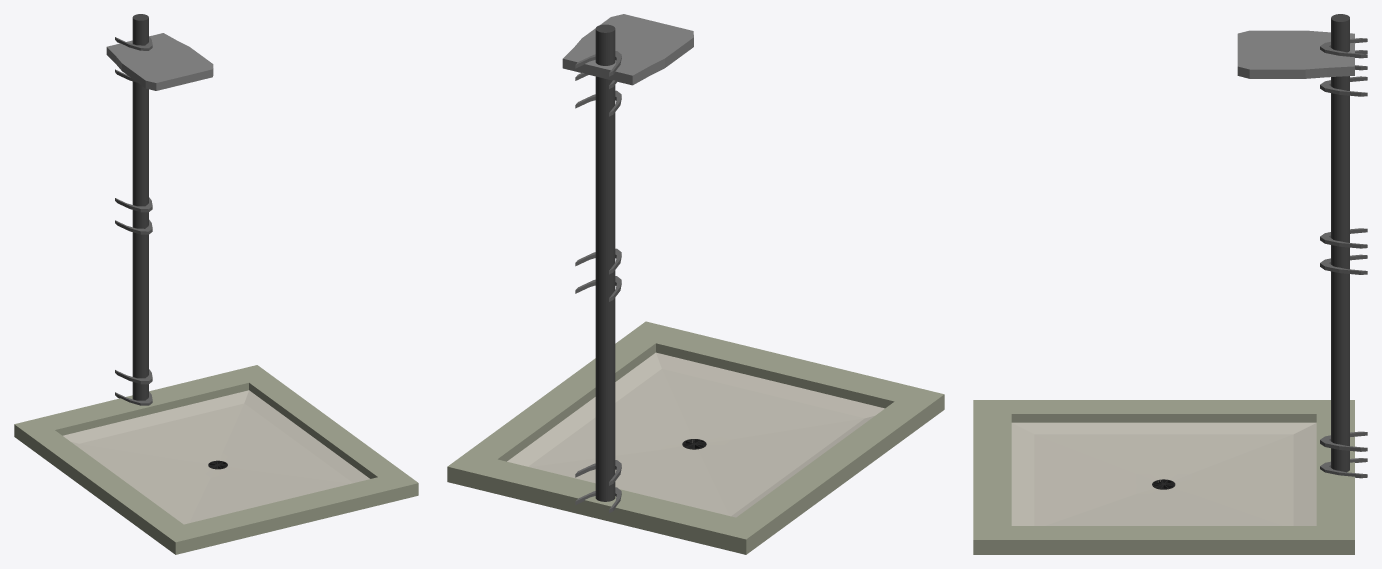
The model's file is douche.fbx.
3 renders of one model, left to right at view 1: azimuth 30°, elevation 25°; view 2: azimuth 150°, elevation 25°; view 3: azimuth 270°, elevation 25°, orthographic. The views are drawn at different scales.
Visible parts, largest first — view 1: Cube.488, Cylinder.003, Cube.487; view 2: Cube.488, Cylinder.003, Cube.487; view 3: Cube.488, Cylinder.003, Cube.487.
Boxes of the visible parts, bbox=[...] form: Cube.488: bbox=[14, 365, 418, 554]; Cylinder.003: bbox=[132, 14, 148, 400]; Cube.487: bbox=[106, 33, 213, 90]; Cube.488: bbox=[447, 321, 944, 554]; Cylinder.003: bbox=[595, 24, 615, 501]; Cube.487: bbox=[562, 14, 693, 85]; Cube.488: bbox=[973, 400, 1354, 554]; Cylinder.003: bbox=[1331, 14, 1349, 472]; Cube.487: bbox=[1237, 30, 1354, 78].
Size of the model in its own units: 158 by 258 by 188.
